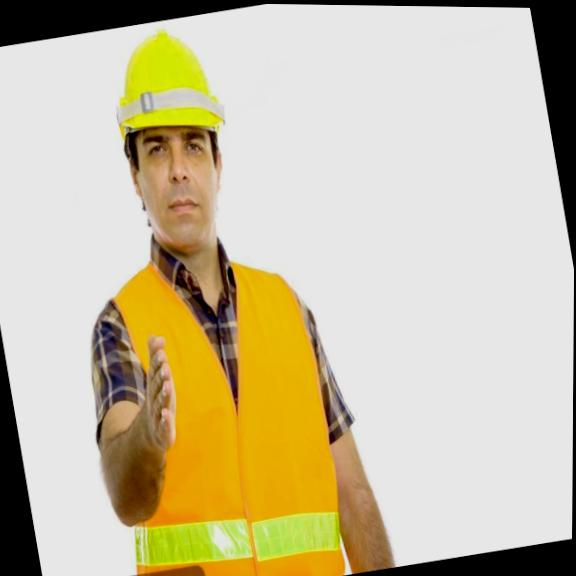safety_vest: (99, 244, 358, 576)
